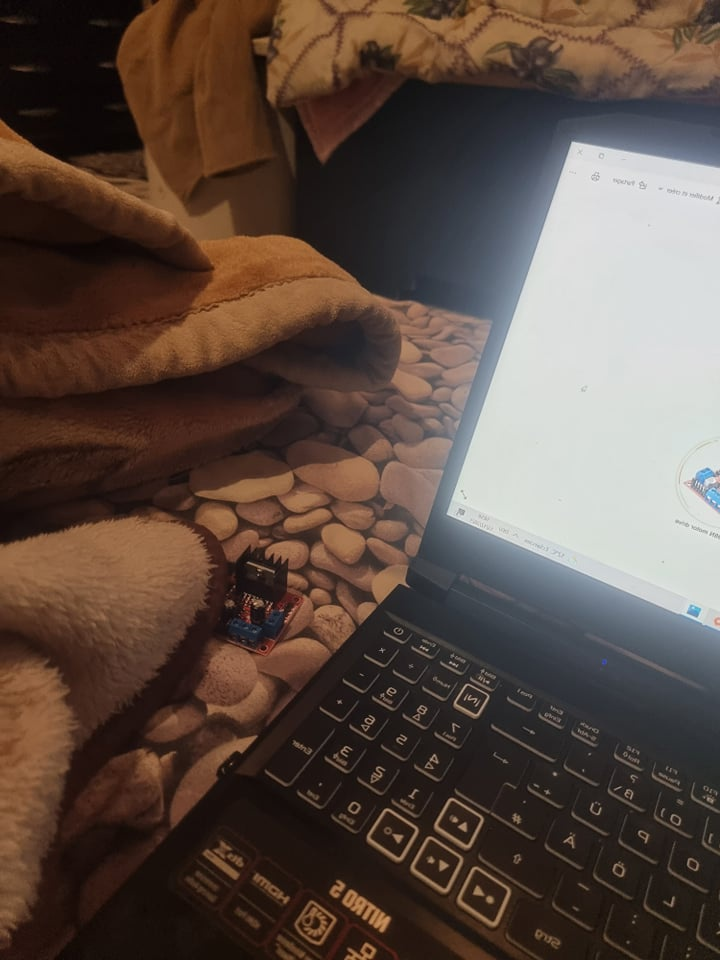MOTOR: (214, 544, 304, 657)
